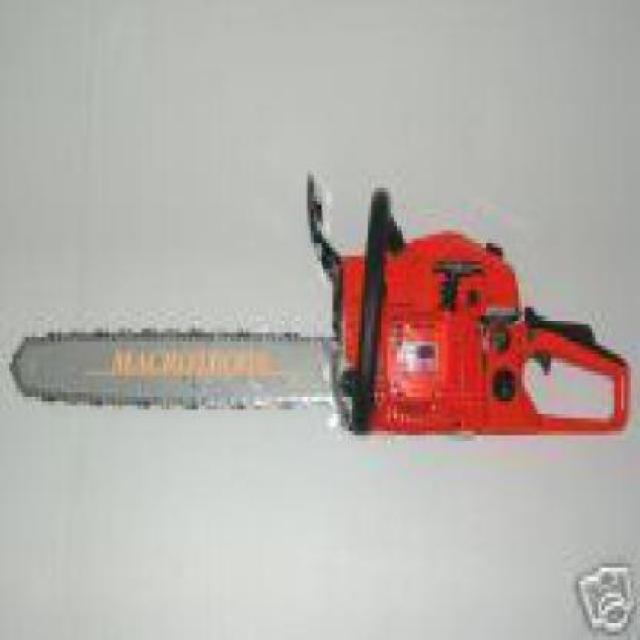Chainsaw: (6, 166, 639, 440)
